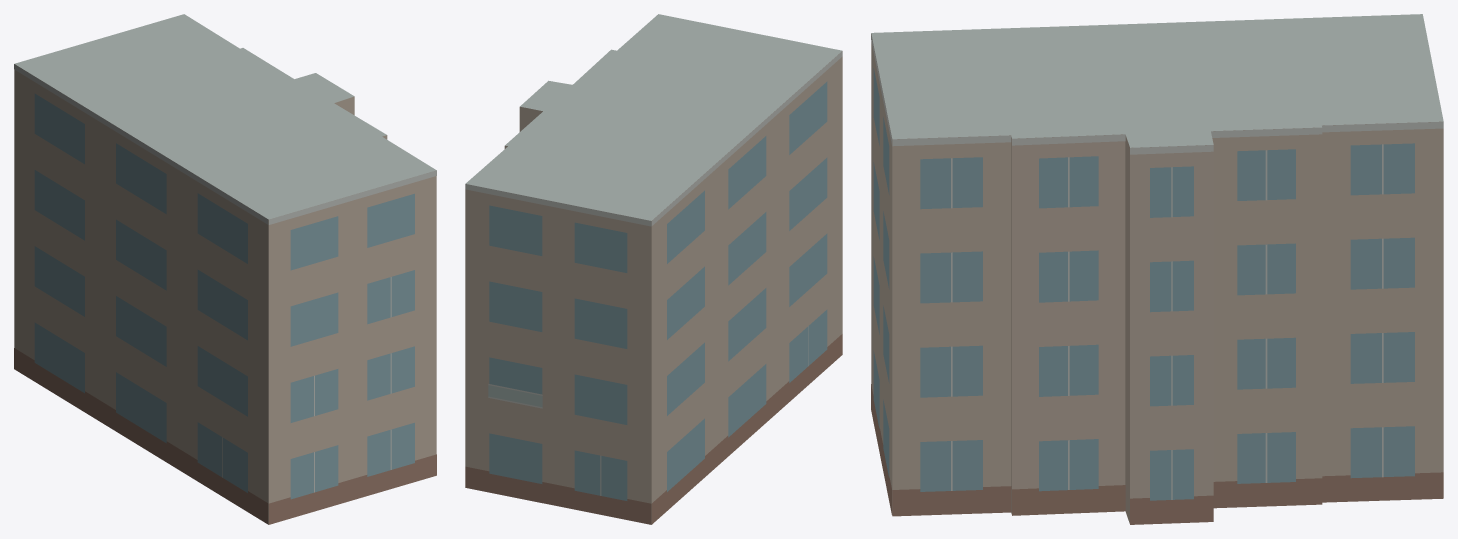
File: survey-upis-32723102.glb
3 views of the same model, side by side, from view 1: azimuth 30°, elevation 25°; view 2: azimuth 150°, elevation 25°; view 3: azimuth 270°, elevation 25° (orthographic). The views are drawn at different scales.
Visible parts, largest first — view 1: survey-upis-32723102.tmp; view 2: survey-upis-32723102.tmp; view 3: survey-upis-32723102.tmp.
Boxes of the visible parts, x1=… form: survey-upis-32723102.tmp: x1=14, y1=14, x2=436, y2=524; survey-upis-32723102.tmp: x1=465, y1=14, x2=842, y2=524; survey-upis-32723102.tmp: x1=871, y1=14, x2=1443, y2=524.
Bounding box in the file's own units: 10.13 × 13.3 × 18.31.
